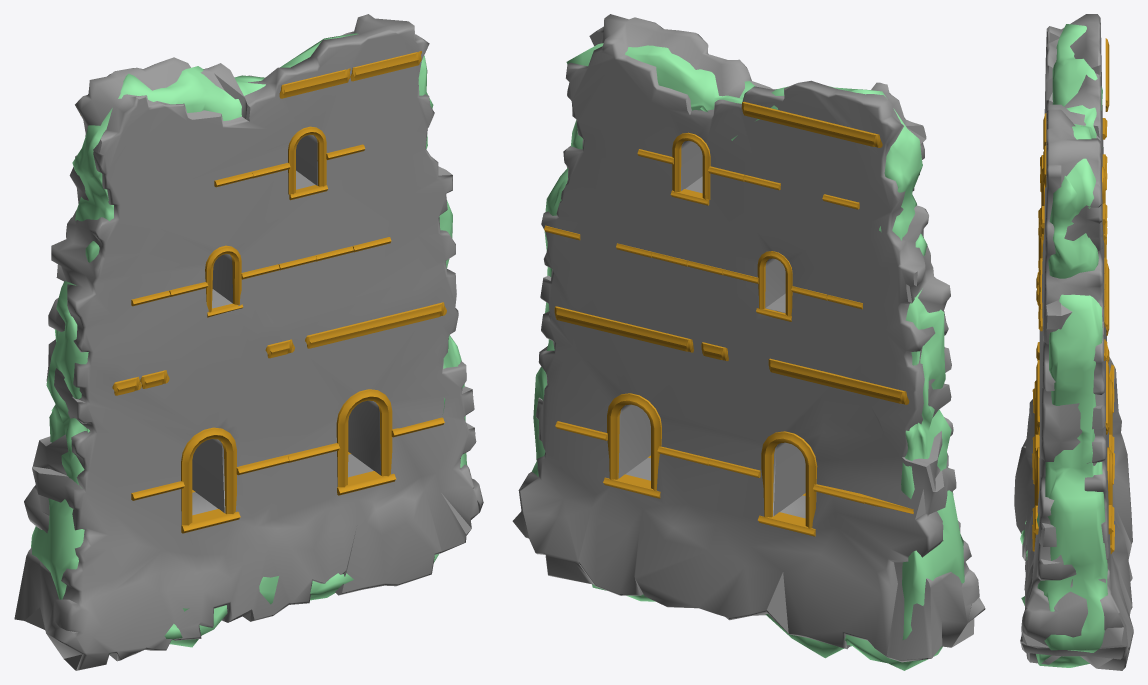
File: SM_Huge_Castle_Wall.fbx
3 views of the same model, side by side, from view 1: azimuth 30°, elevation 25°; view 2: azimuth 150°, elevation 25°; view 3: azimuth 270°, elevation 25° (orthographic). The views are drawn at different scales.
Visible parts, largest first — view 1: SM_Huge_Castle_Wall_LOD0; view 2: SM_Huge_Castle_Wall_LOD0; view 3: SM_Huge_Castle_Wall_LOD0.
Part boxes in pixels (x1,y1,x2,y2): SM_Huge_Castle_Wall_LOD0: [14, 14, 483, 670]; SM_Huge_Castle_Wall_LOD0: [512, 14, 985, 670]; SM_Huge_Castle_Wall_LOD0: [1014, 14, 1133, 670].
Size of what is drawn, in the model's own units: 955 by 1214 by 248.
